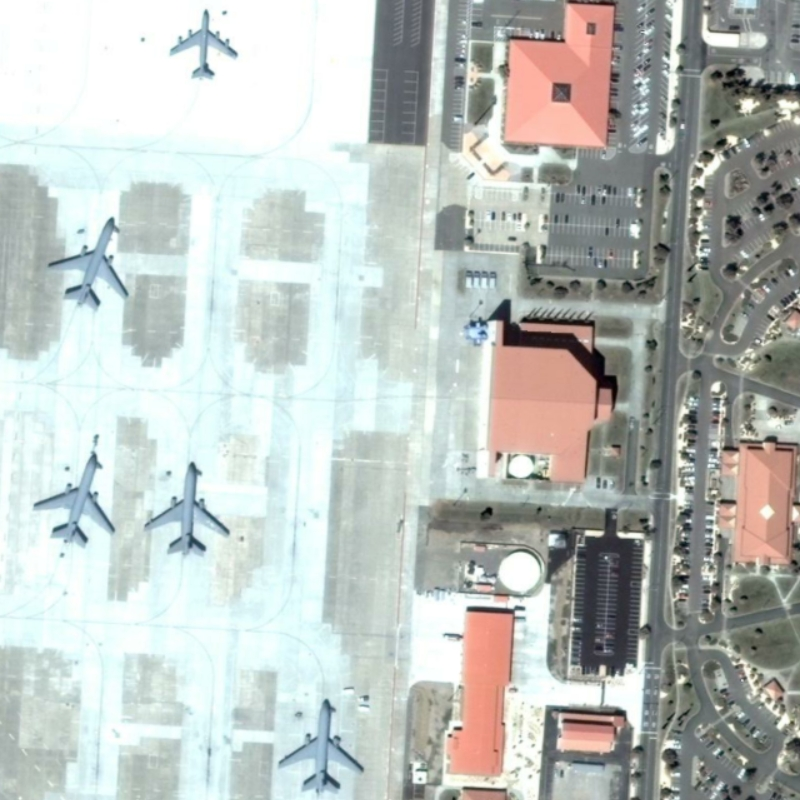A14: (166, 6, 239, 82)
A18: (272, 695, 367, 799), (141, 456, 233, 559), (42, 213, 133, 313), (29, 447, 118, 549)
